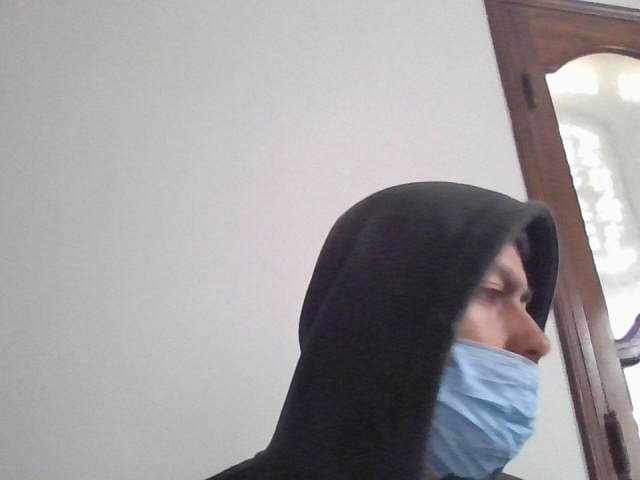mask_weared_incorrect: (428, 212, 579, 480)
